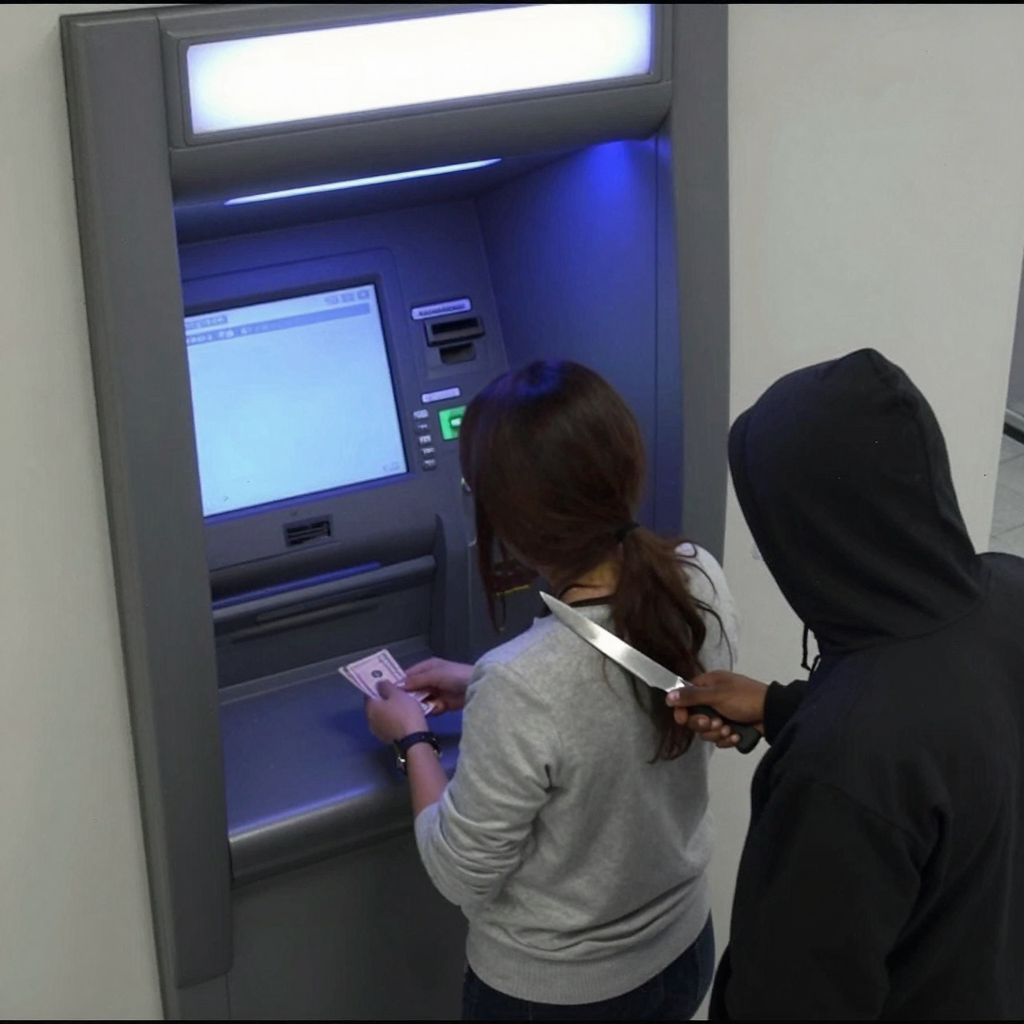Assault: (540, 588, 753, 757)
Robbery: (363, 358, 761, 1021), (664, 348, 1024, 1021)
